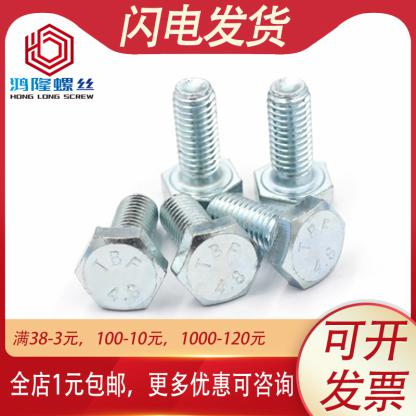FOD: (204, 194, 347, 293), (152, 75, 245, 217), (157, 189, 261, 309), (73, 191, 168, 312), (254, 74, 336, 214)
